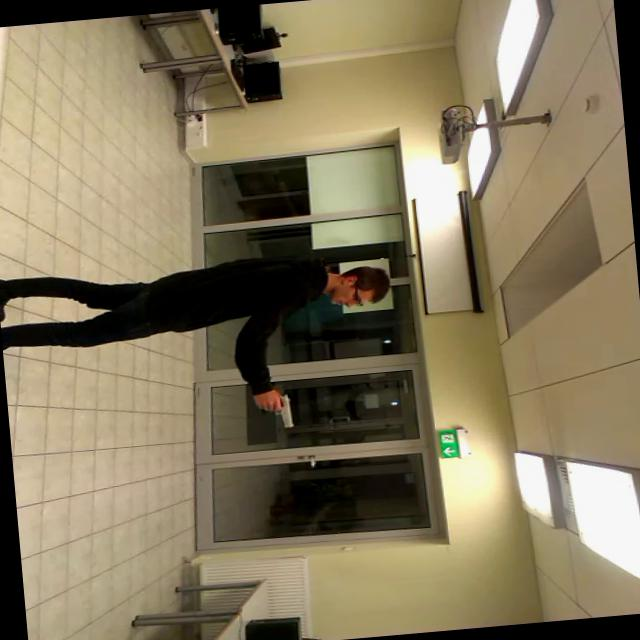handgun: (258, 390, 300, 433)
